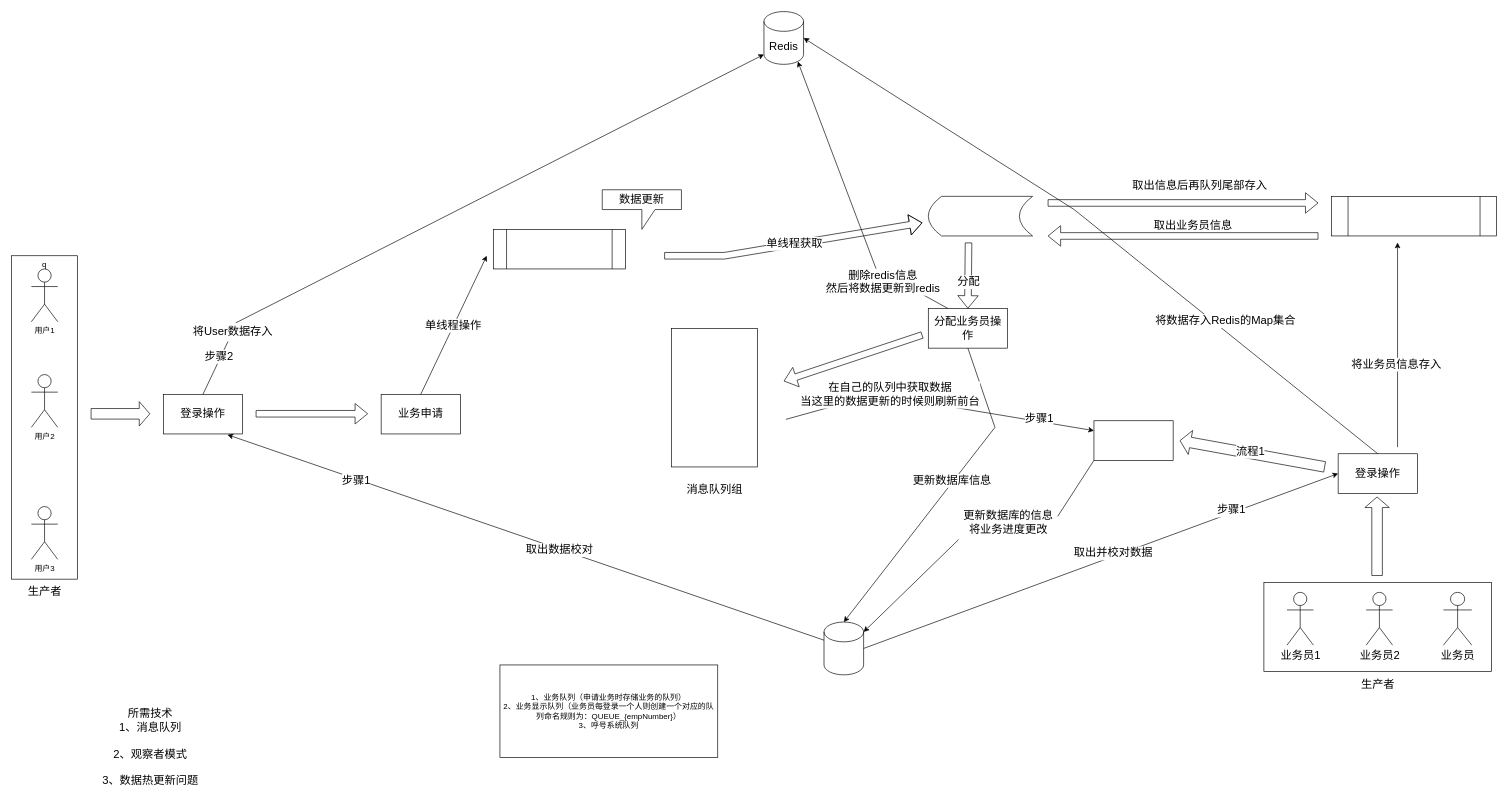
The diagram is 1508 pixels wide and 802 high, and some of its shapes have lost their labels. Each missing label, with the centre of its shape:
"MySQL" belongs at (843,648).
"呼号队列组，每个业务员登录时创建一个消息队列" belongs at (714,397).
"处理业务" belongs at (1133,440).
"当前在线业务员循环队列" belongs at (1414,216).
"用户业务队列" belongs at (559,249).
"监听线程 （消费者）" belongs at (980,216).
